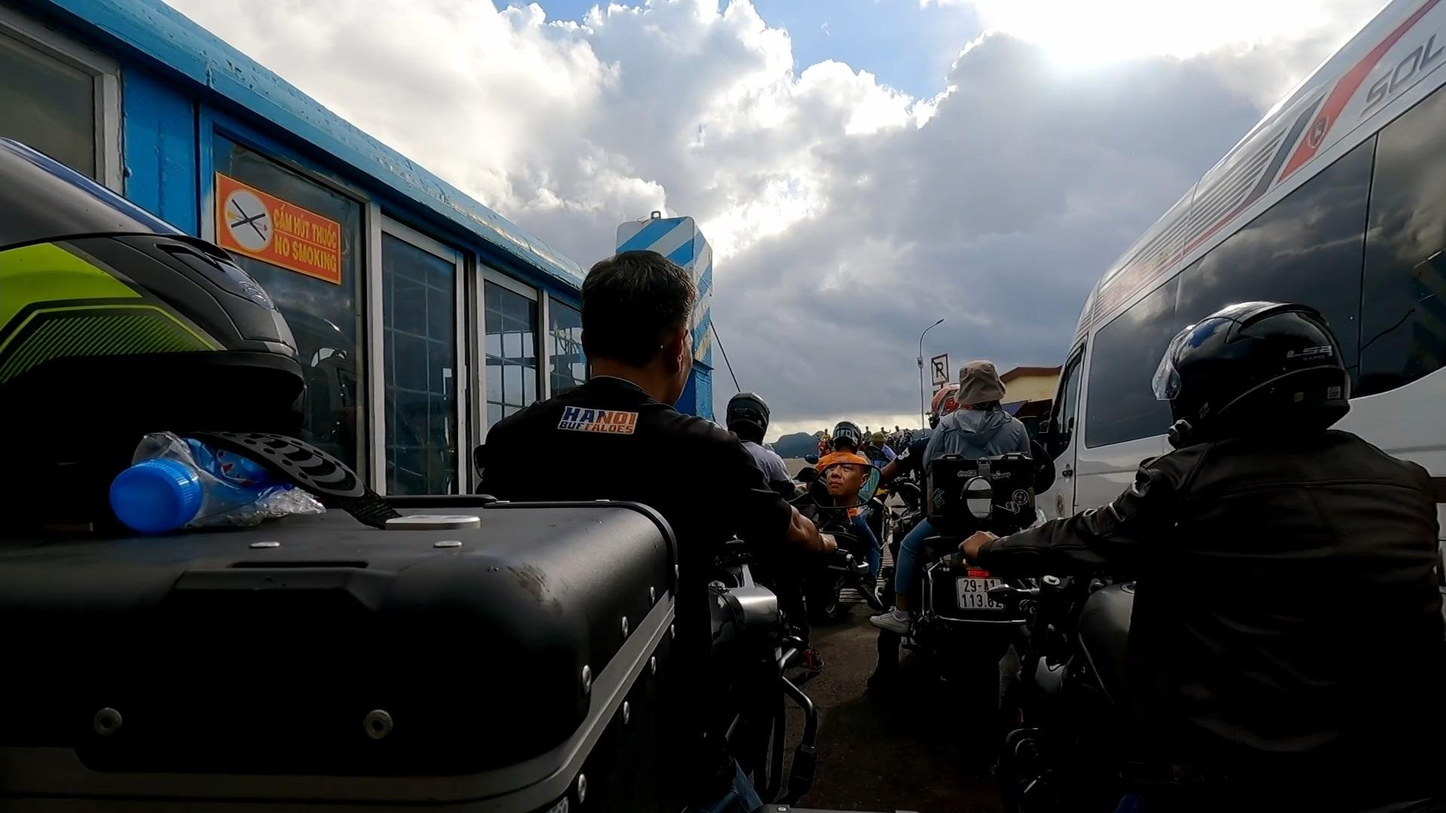driver: (0, 135, 885, 813), (958, 300, 1446, 813), (865, 360, 1057, 692)
helmet: (1154, 299, 1350, 449), (726, 392, 770, 446), (832, 421, 862, 455)
no-helmet: (581, 250, 696, 406), (955, 360, 1006, 411)
